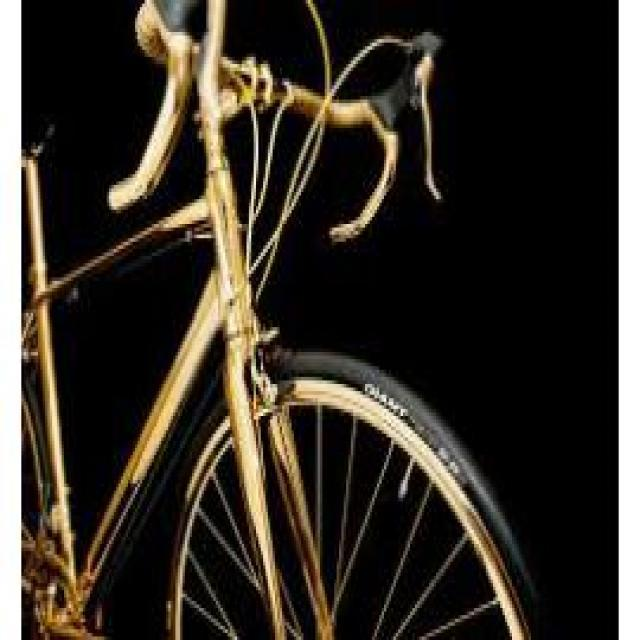bicycle: (8, 33, 620, 627)
